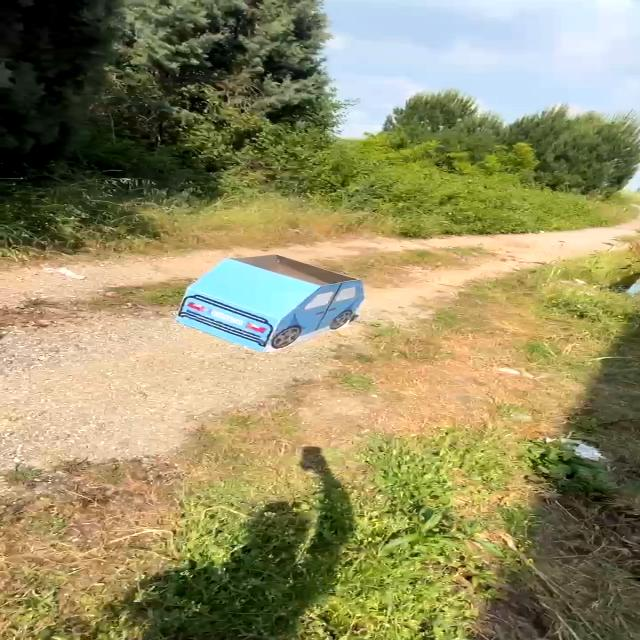blue_car: (167, 239, 383, 358)
